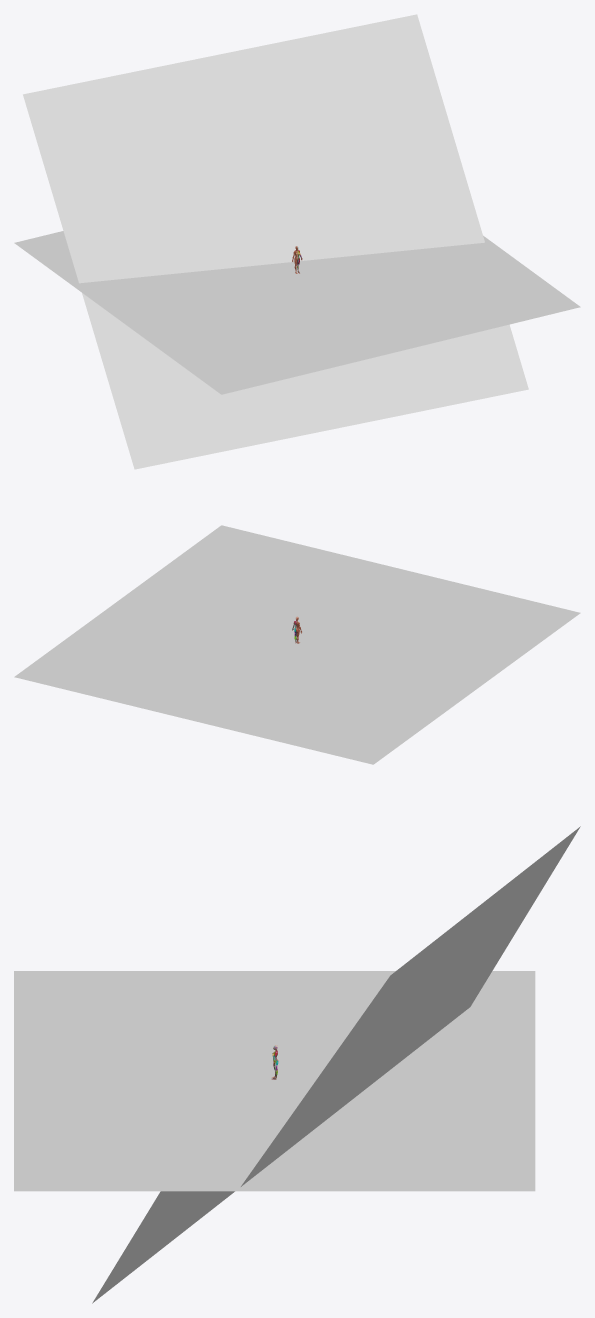
The model's file is Female_Anatomy.glb.
3 views of the same model, one above another, from view 1: azimuth 30°, elevation 25°; view 2: azimuth 150°, elevation 25°; view 3: azimuth 270°, elevation 25° (orthographic). The views are drawn at different scales.
Parts seen in each view (by area): view 1: Plane.001, Plane; view 2: Plane; view 3: Plane, Plane.001.
Part boxes in pixels (box(x1,y1,x2,y2)): Plane.001: box(23, 14, 528, 469); Plane: box(14, 231, 580, 394); Plane: box(14, 525, 580, 764); Plane: box(14, 971, 535, 1191); Plane.001: box(92, 826, 580, 1303).
Size of the model in its own units: 136 by 94.45 by 137.
1 material, 1 textured.
